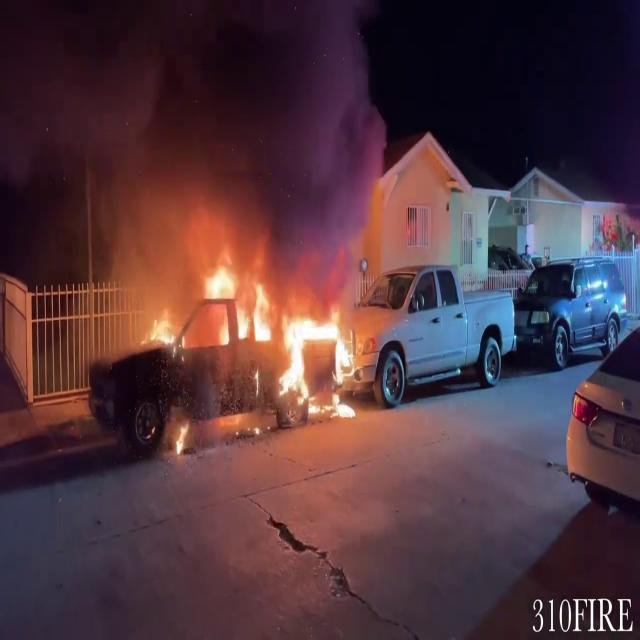Fire: (152, 247, 368, 421)
Smoke: (31, 0, 392, 276)
